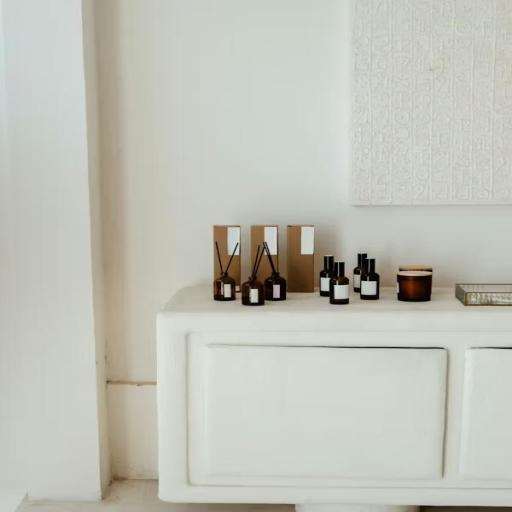bottle: (326, 258, 355, 308)
